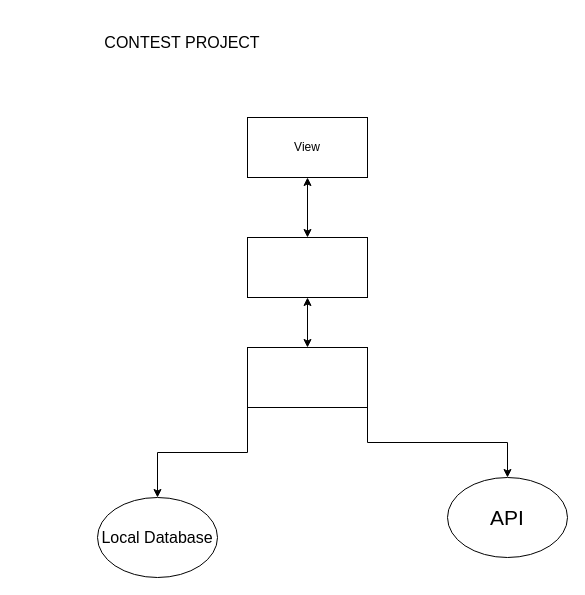
Some shapes in this 585 by 595 pixel diagram are drawn without their labels. Each missing label, with the centre of its shape:
"MODEL" goes at pixel 307 377.
"View Model" goes at pixel 307 267.
